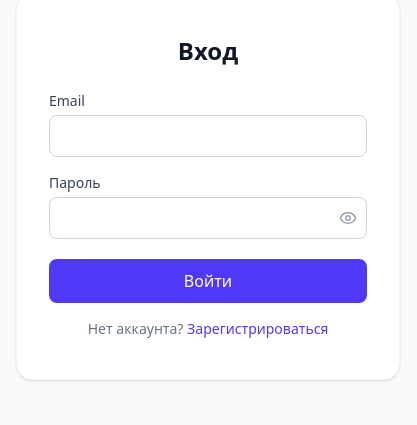
Test: LoginPage › показывает запасную ошибку если ответ не содержит сообщения
Type "user@test.com" into the field labelled "Email" at (208, 136), box [49, 115, 367, 157]
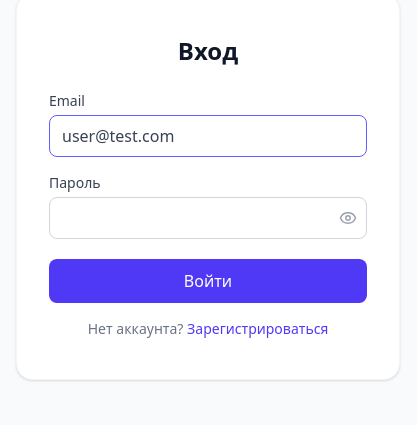
Type "wrong" into the password field labelled "Пароль" at (208, 218), box [49, 197, 367, 239]
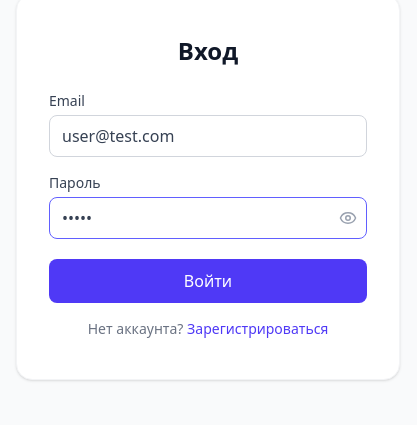
Click the button "Войти" at (208, 281), box [49, 259, 367, 303]
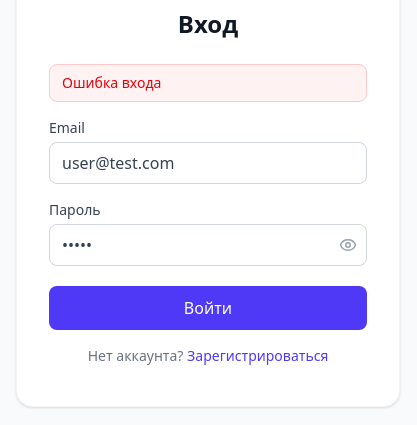
Expected: the message reads "Ошибка входа", [62, 73, 162, 92]
